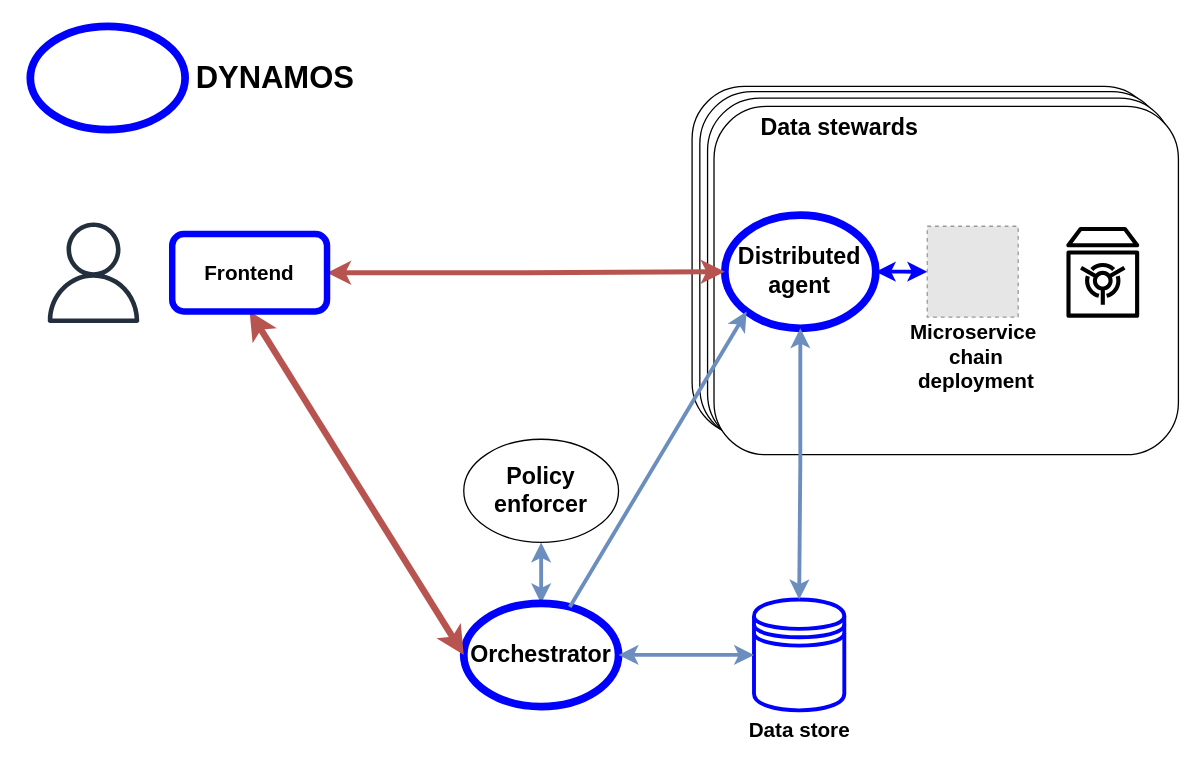
This 1201x771 diagram has some shape labels left out. Grey dashed boxes stand in for pictures. Each missing label, with the centre of its shape:
"Data analyst" goes at point (93, 272).
"Data pod" goes at point (1102, 272).
